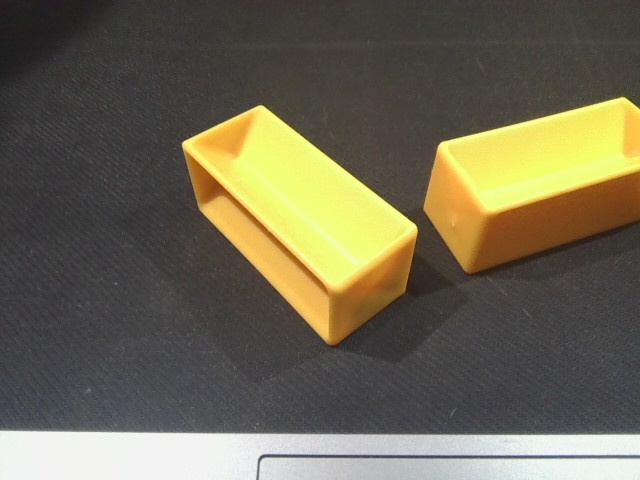YellowSample: (171, 102, 424, 351), (424, 94, 640, 276)
